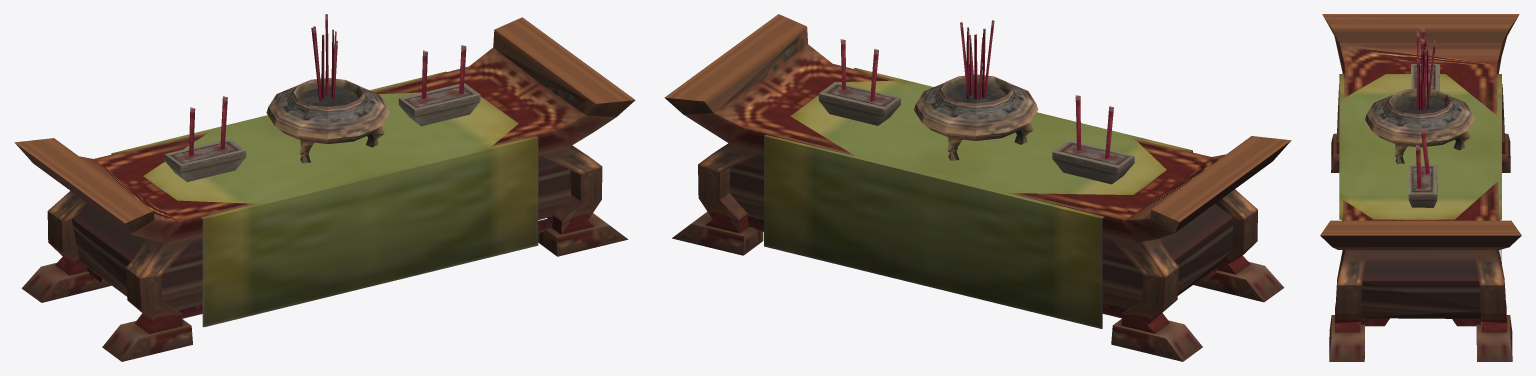
The model's file is d_sd_jitai01_qt.FBX.
The picture shows the model from 3 angles, left to right: view 1: azimuth 30°, elevation 25°; view 2: azimuth 150°, elevation 25°; view 3: azimuth 270°, elevation 25°; orthographic projection. The views are drawn at different scales.
Parts seen in each view (by area): view 1: d_sd_jitai01_qt_A; view 2: d_sd_jitai01_qt_A; view 3: d_sd_jitai01_qt_A.
Part boxes in pixels (x1=…): d_sd_jitai01_qt_A: x1=14, y1=14, x2=635, y2=361; d_sd_jitai01_qt_A: x1=664, y1=14, x2=1291, y2=361; d_sd_jitai01_qt_A: x1=1320, y1=14, x2=1521, y2=361.
Size of the model in its own units: 149 by 67.4 by 57.32.
